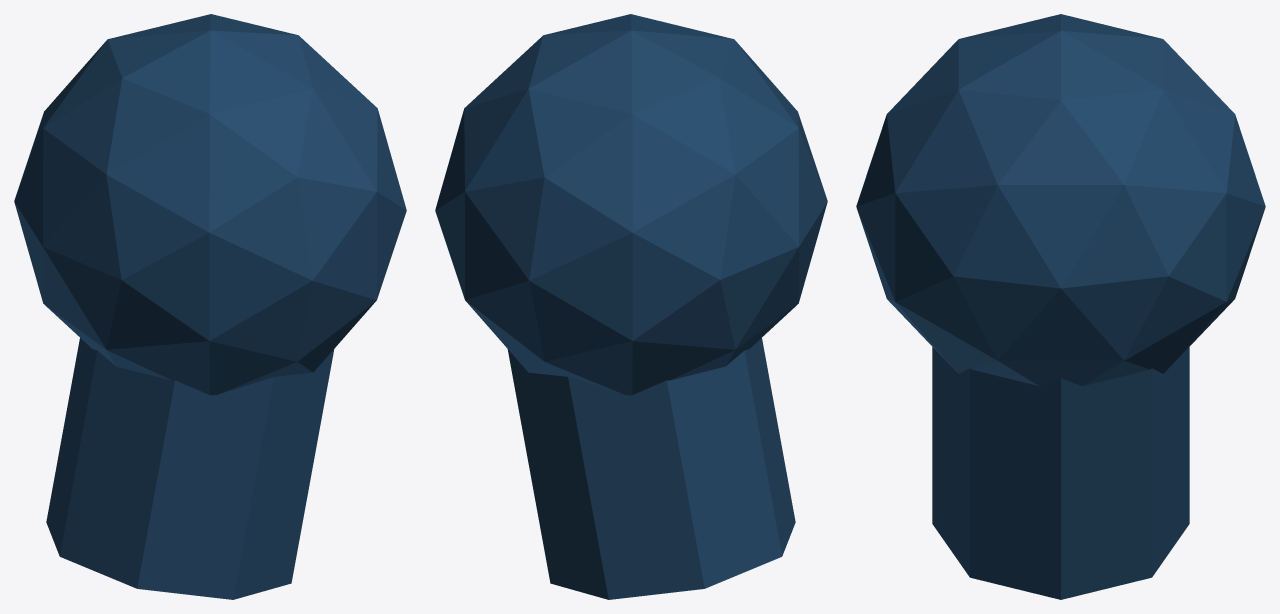
The model's file is ArmLeft.glb.
3 views of the same model, side by side, from view 1: azimuth 30°, elevation 25°; view 2: azimuth 150°, elevation 25°; view 3: azimuth 270°, elevation 25° (orthographic).
Visible parts, largest first — view 1: Sculpture; view 2: Sculpture; view 3: Sculpture.
Part boxes in pixels (x1=…): Sculpture: x1=14, y1=14, x2=406, y2=599; Sculpture: x1=435, y1=14, x2=827, y2=599; Sculpture: x1=856, y1=14, x2=1265, y2=599.
Size of the model in its own units: 0.25 by 0.3813 by 0.264.
